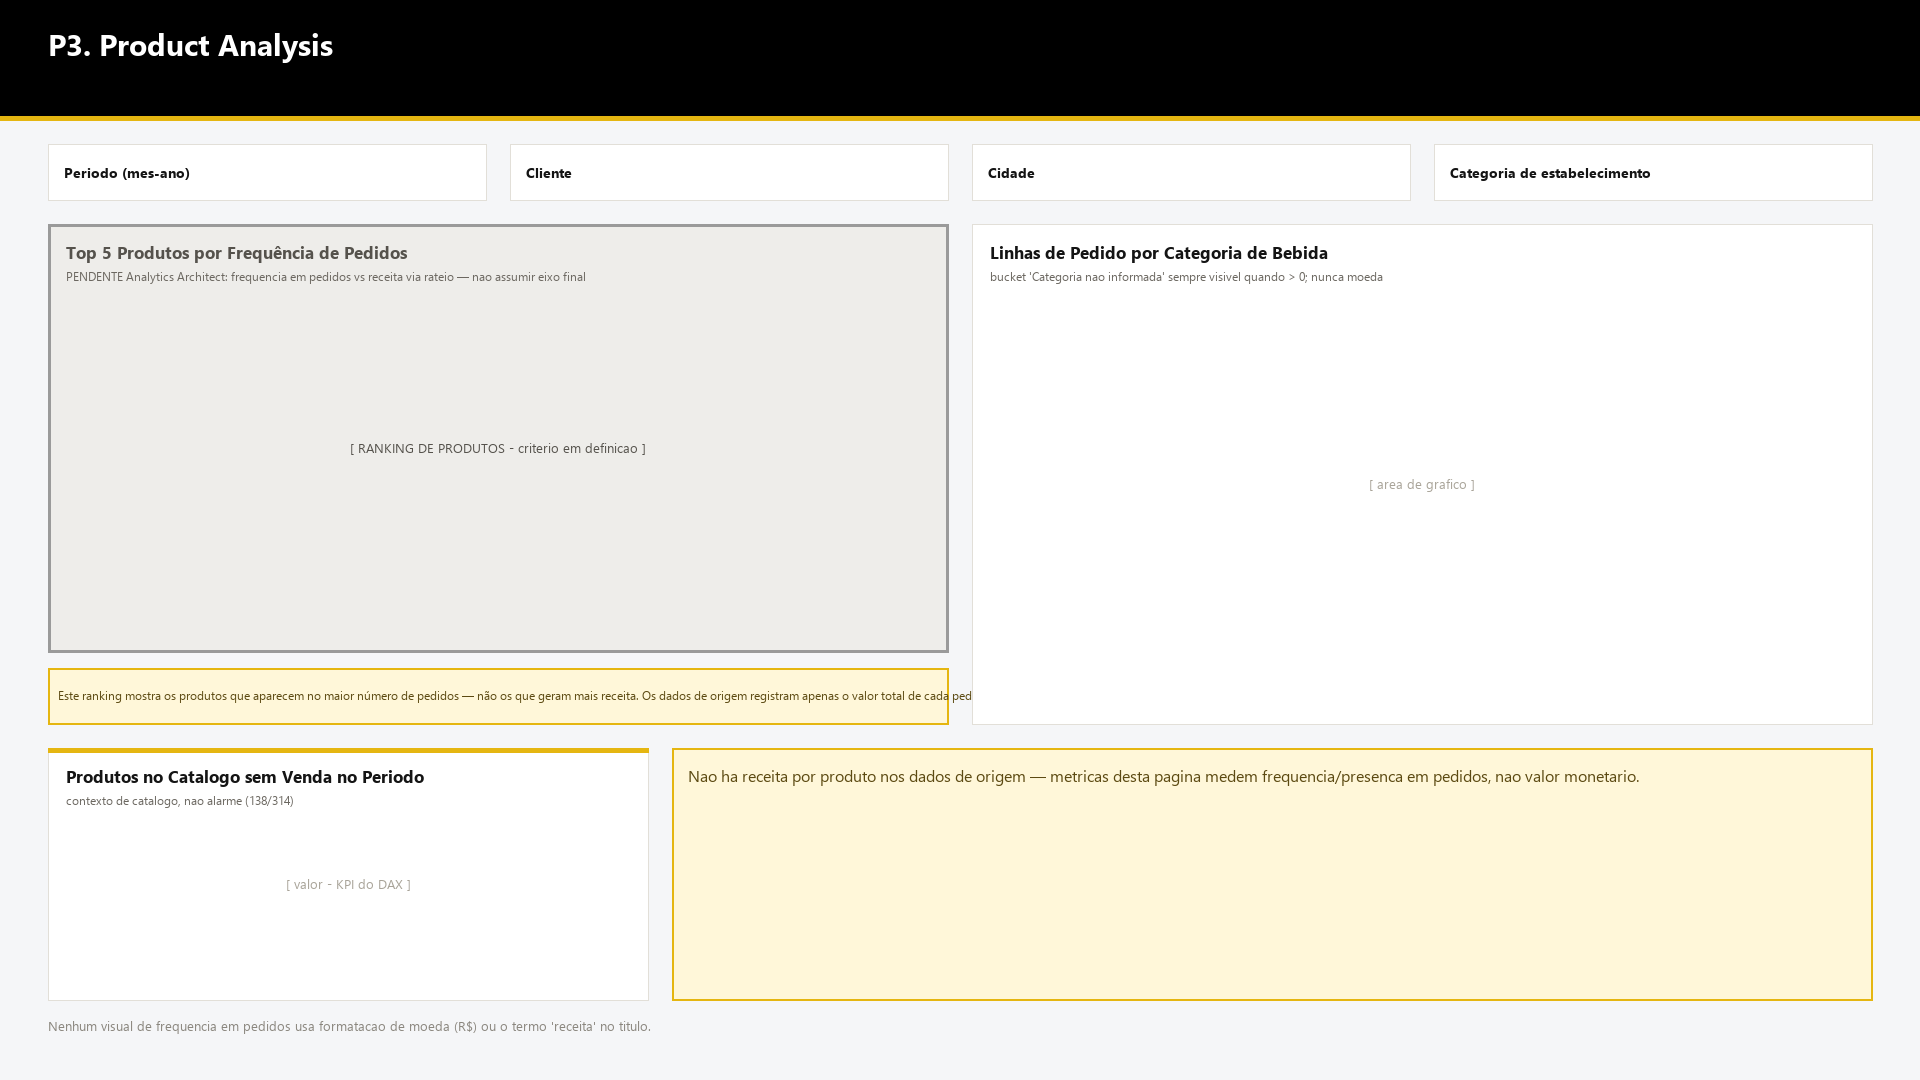

This screenshot's page, from the dashboard's own definition file:
{"tool":"powerbi","page":{"name":"Product Analysis","canvas":[1920,1080],"ordinal":2},"visuals":[{"type":"slicer","fields":{"Values":["dim_date.MonthName"]},"box":[47.1,127.1,440,72.9],"z":0},{"type":"slicer","fields":{"Values":["dim_customer.user_id"]},"box":[511.4,127.1,440,72.9],"z":1},{"type":"slicer","fields":{"Values":["targets.city"]},"box":[971.4,127.1,440,72.9],"z":2},{"type":"slicer","fields":{"Values":["dim_customer.category"]},"box":[1432.9,127.1,440,72.9],"z":3},{"type":"clusteredBarChart","title":"Rev_line","fields":{"Y":["Metricas.Product Order Frequency"],"Category":["dim_product.item_id"]},"box":[68.6,305.7,868.6,337.1],"z":4},{"type":"donutChart","title":"Rev_line","fields":{"Category":["dim_product.category"],"Y":["Metricas.Order Lines Count"]},"box":[998.6,305.7,862.9,407.1],"z":5},{"type":"cardVisual","fields":{"Data":["Metricas.Unsold Products"]},"box":[58.6,828.6,577.1,160],"z":6}]}

Visuals, with their boxes in screenshot pixels (x1, y1, x2, y2), scaled from the page's 1920x1080 canvas onto the 1920x1080 screenshot:
slicer - dim_date.MonthName: box(47, 127, 487, 200)
slicer - dim_customer.user_id: box(511, 127, 951, 200)
slicer - targets.city: box(971, 127, 1411, 200)
slicer - dim_customer.category: box(1433, 127, 1873, 200)
"Rev_line" clusteredBarChart: box(69, 306, 937, 643)
"Rev_line" donutChart: box(999, 306, 1862, 713)
cardVisual - Metricas.Unsold Products: box(59, 829, 636, 989)
